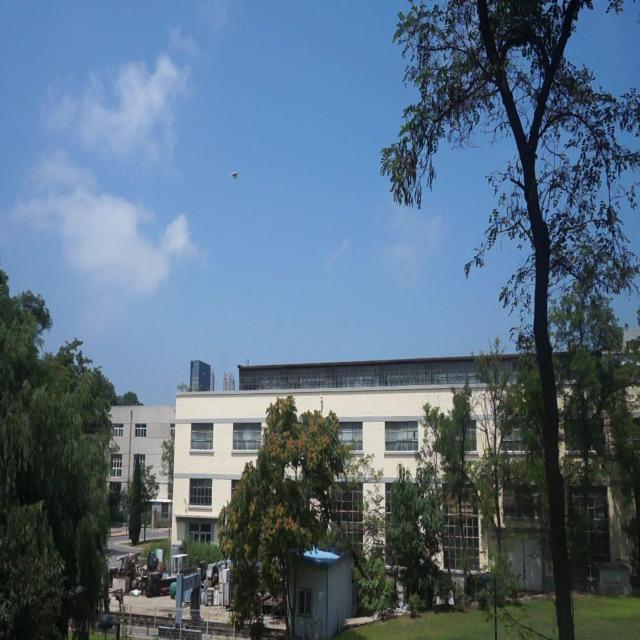drone: (229, 163, 241, 184)
